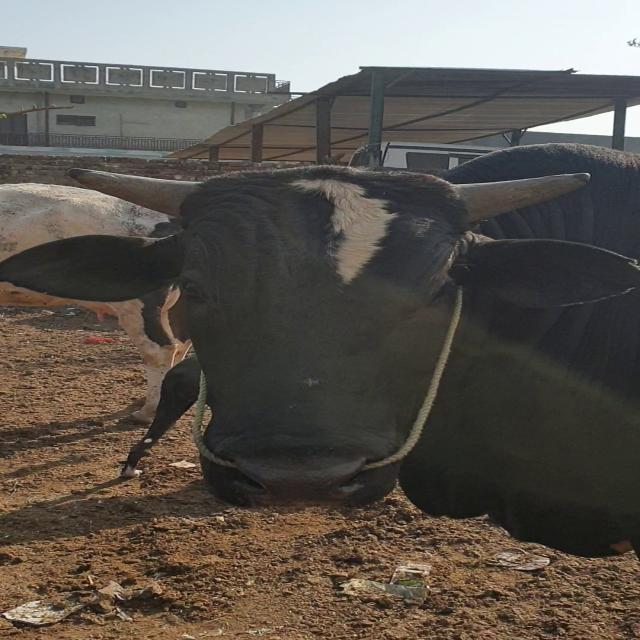cowFace: (181, 172, 465, 518)
